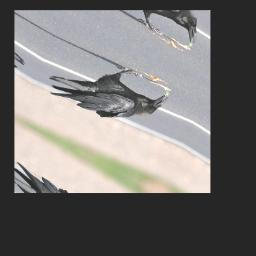Crow: (43, 37, 172, 143)
